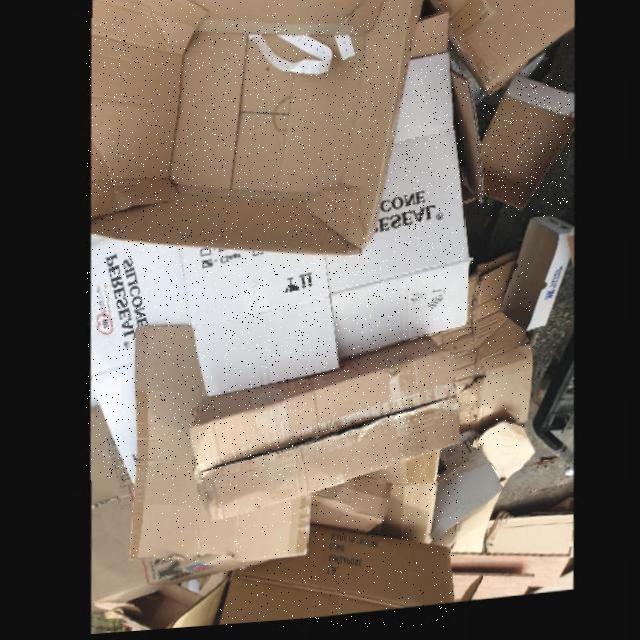paper: (87, 18, 465, 481), (86, 0, 418, 260), (186, 344, 458, 524), (128, 328, 308, 565), (218, 529, 454, 628), (425, 259, 530, 449), (421, 0, 569, 103), (476, 84, 570, 217)
